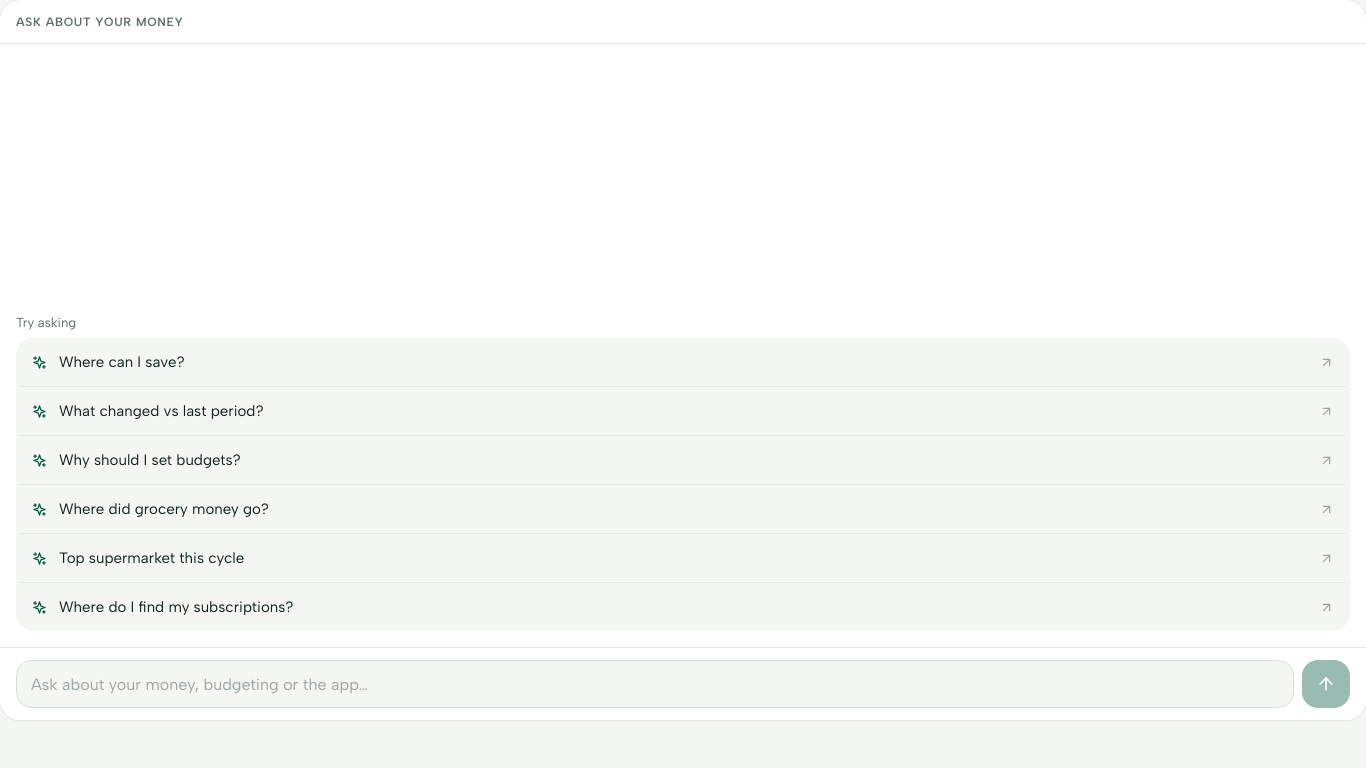
ChatPanel with evidence › is honest when there is not enough data: no request is made
Type "Where did grocery money go?" into the field named "Ask about your spending" at coordinates (655, 684), box [16,660,1294,708]
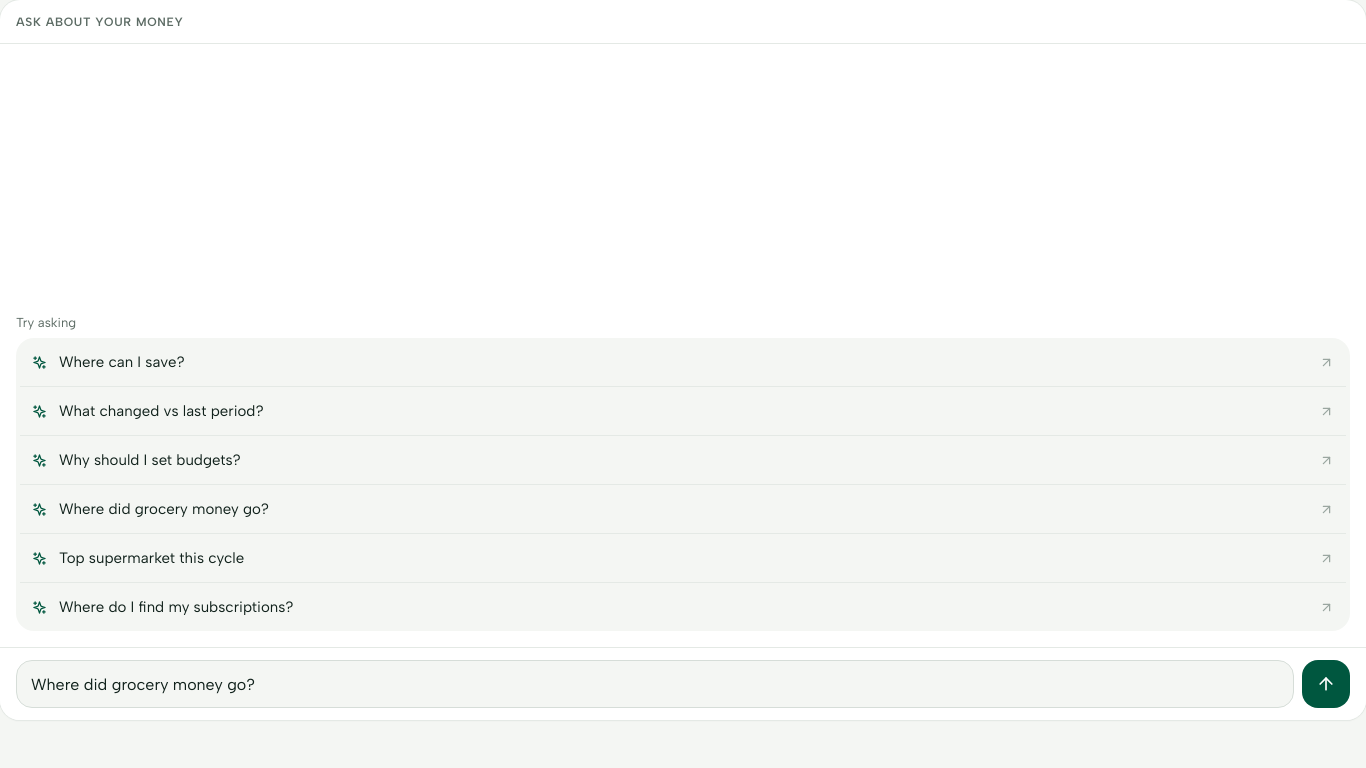
Click the button named "Send" at coordinates (1326, 684), box [1302,660,1350,708]
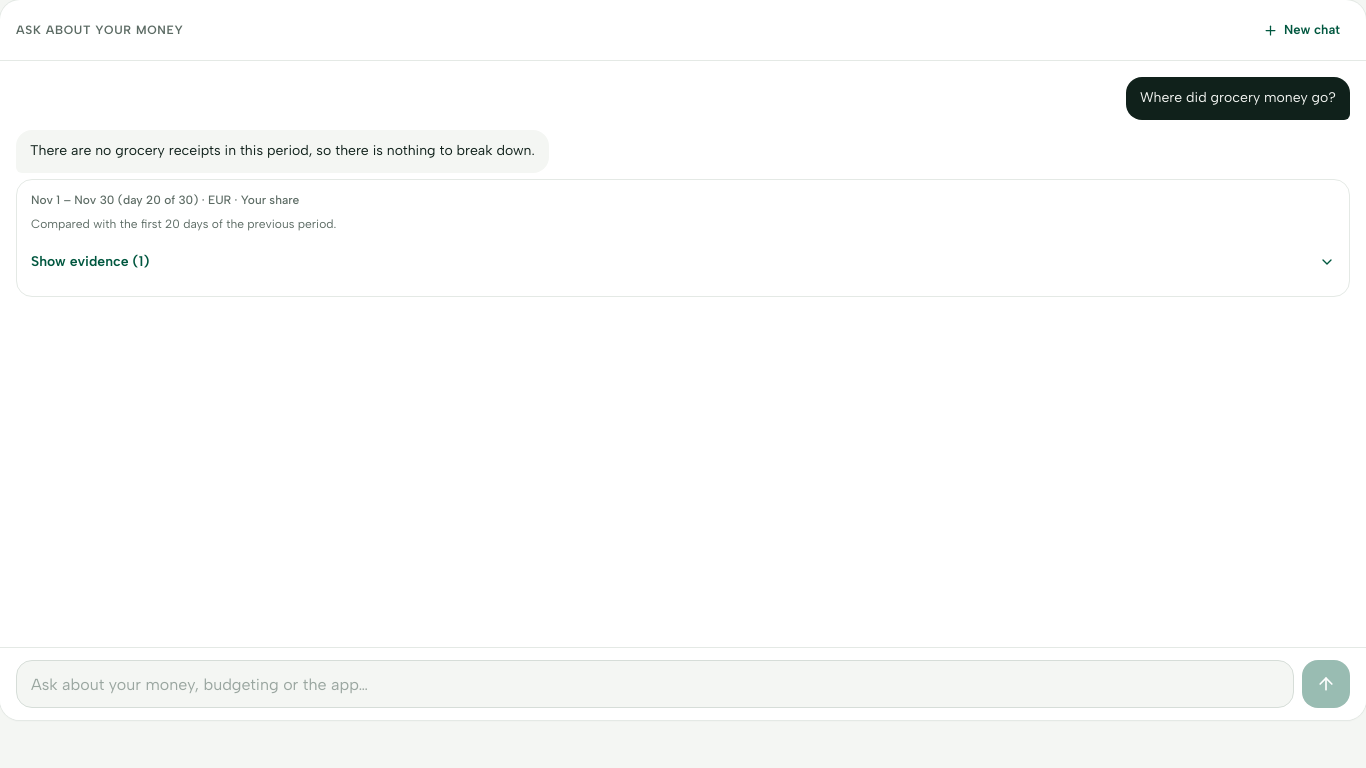
Check: the text "no grocery receipts" is shown, box [30,142,535,159]
